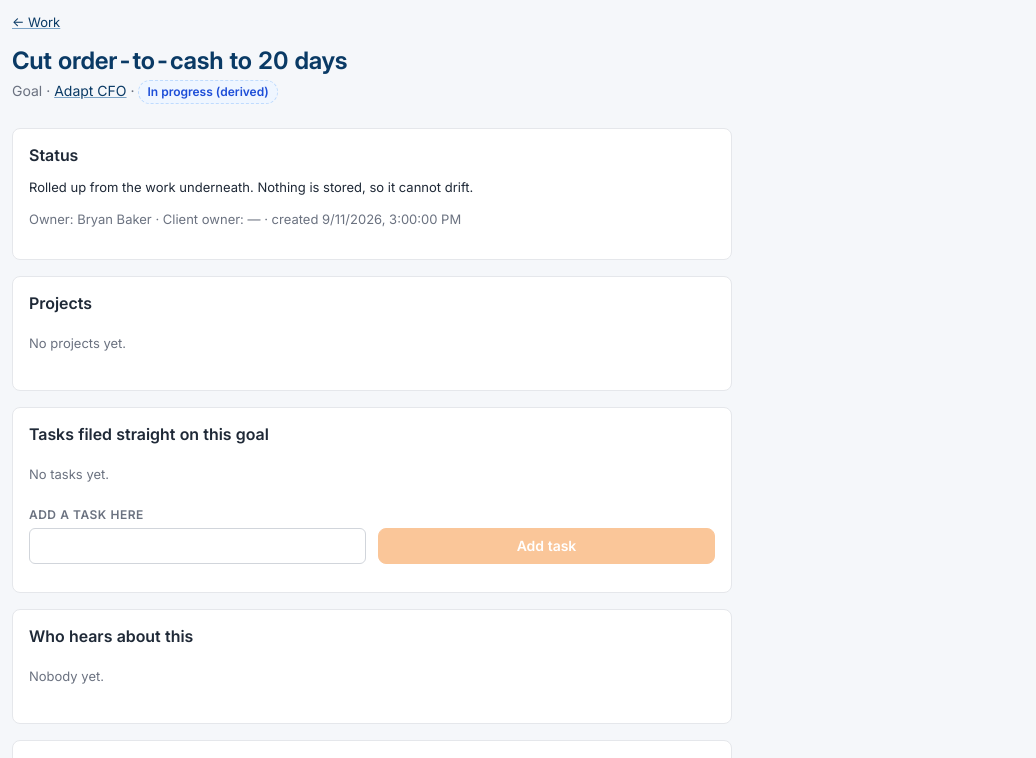
Test: Add a task here, on a goal (Check 5) › shows a refusal in the server's words, never a bare 400
In the field named "New task title": coordinates (198, 546) [29,528,366,564], type "Nope"
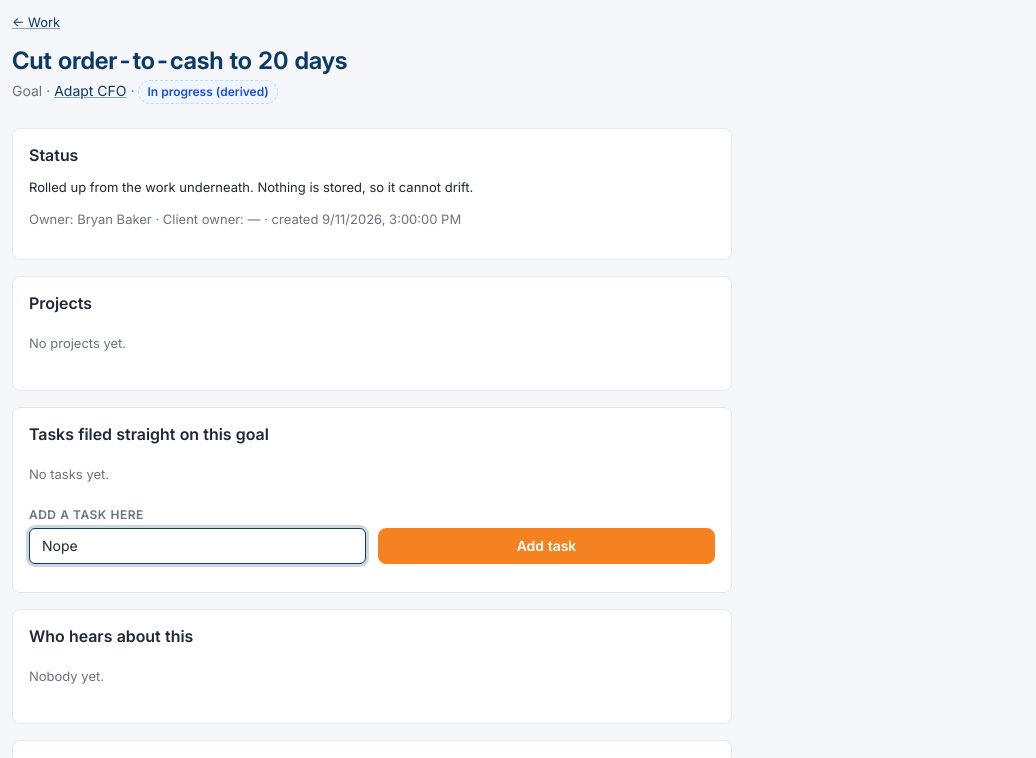
Click the button "Add task": coordinates (546, 546) [378,528,715,564]
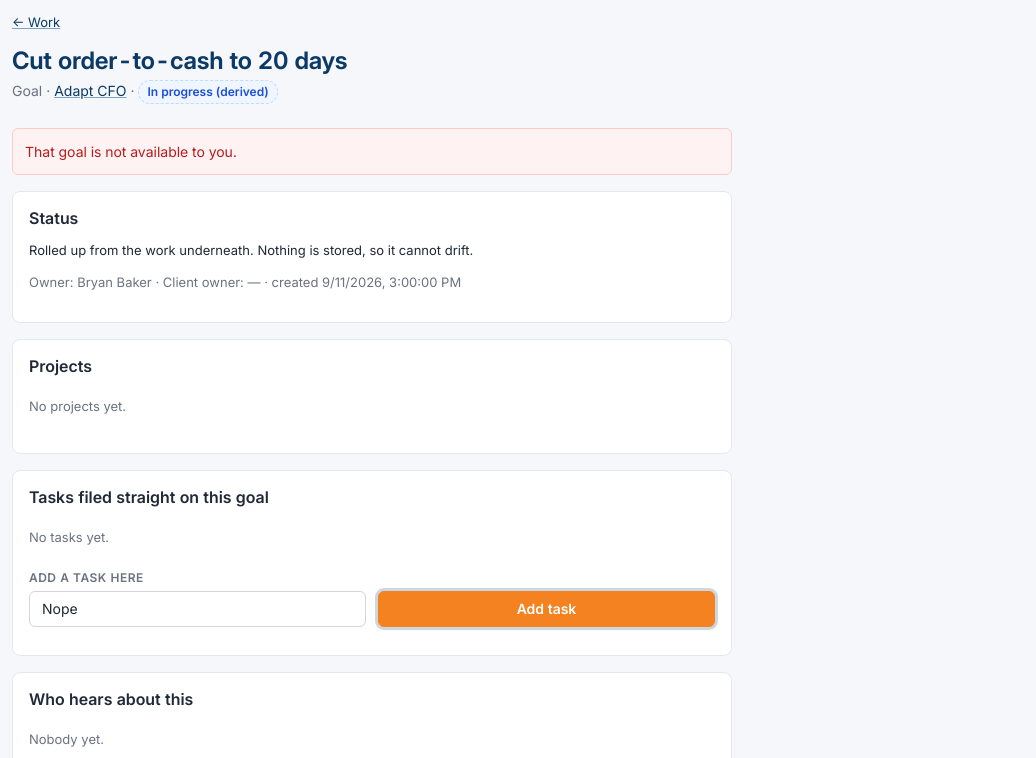
Check: the text "That goal is not available to you." is shown, box [25,142,237,160]
